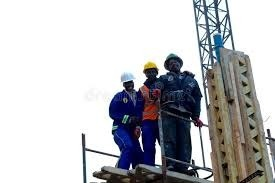helmet: (163, 51, 185, 71), (142, 58, 160, 75), (120, 69, 136, 84)
person with full safety: (134, 59, 165, 162)
person with partial safety: (161, 50, 203, 165), (107, 70, 143, 167)
safety vest: (142, 85, 161, 123)
